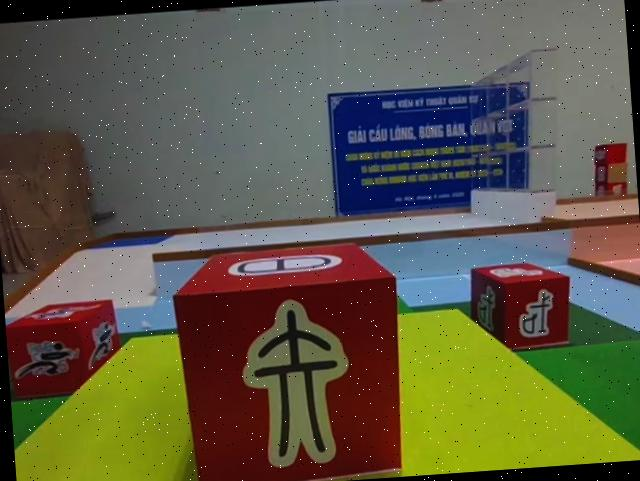R1: (4, 293, 128, 403)
R2 Fake: (165, 235, 410, 481)
R2 Real: (461, 254, 580, 358)
